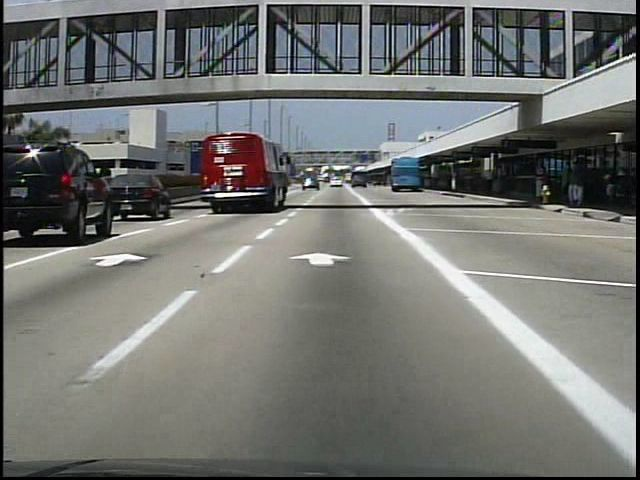person: (599, 169, 617, 213), (481, 166, 493, 193)
